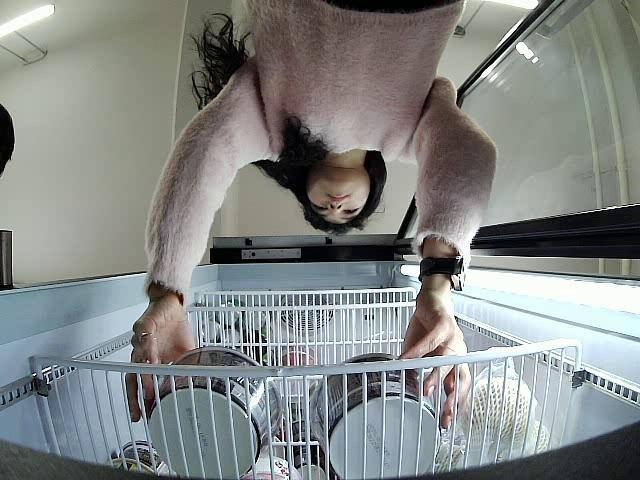07_buldak_L: (144, 344, 280, 478), (308, 353, 442, 478)
